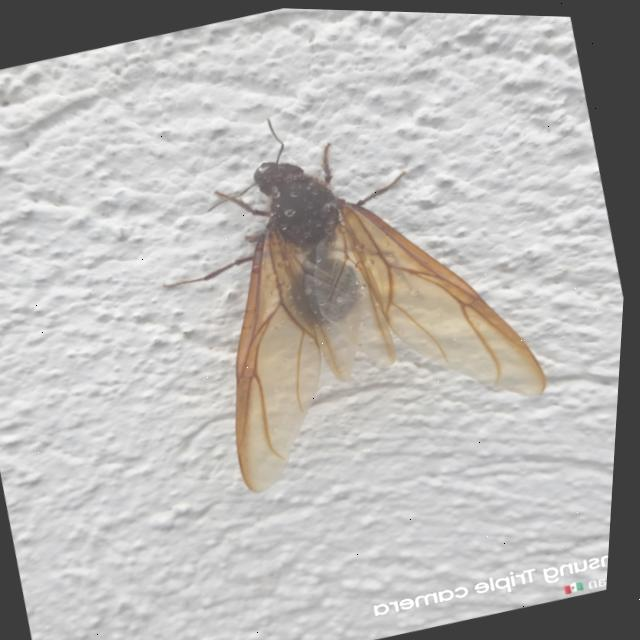Alive-Female-Alate: (119, 59, 578, 511)
